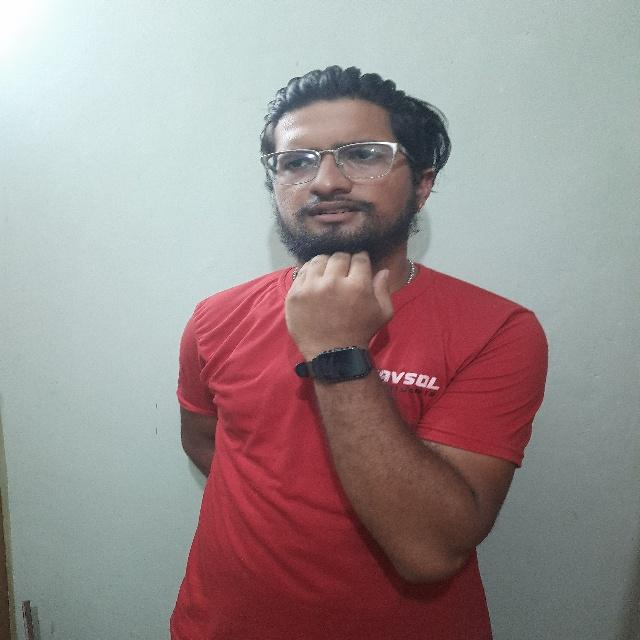Chin Flick: (252, 60, 428, 372)
